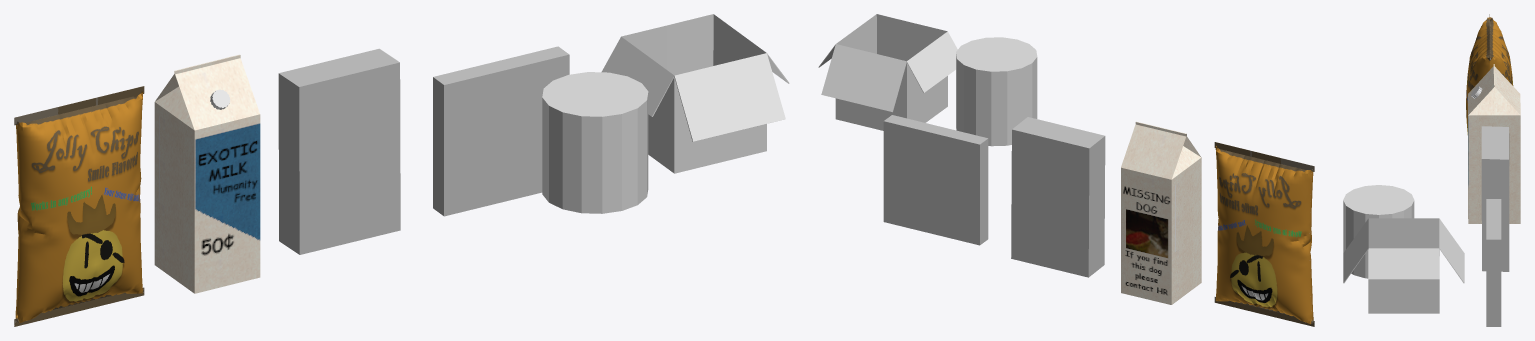
The model's file is asset (2).fbx.
3 renders of one model, left to right at view 1: azimuth 30°, elevation 25°; view 2: azimuth 150°, elevation 25°; view 3: azimuth 270°, elevation 25°, orthographic. The views are drawn at different scales.
Parts seen in each view (by area): view 1: chips, cereal, carton, wooden box, pizza box, Cylinder; view 2: chips, cereal, carton, wooden box, pizza box, Cylinder; view 3: wooden box, carton, cereal, Cylinder, chips, pizza box.
Boxes of the visible parts, bbox=[...] form: chips: bbox=[14, 86, 144, 326]; cereal: bbox=[278, 48, 400, 254]; carton: bbox=[154, 54, 260, 293]; wooden box: bbox=[601, 14, 789, 173]; pizza box: bbox=[433, 46, 569, 216]; Cylinder: bbox=[542, 72, 648, 213]; chips: bbox=[1214, 142, 1314, 326]; cereal: bbox=[1011, 117, 1105, 277]; carton: bbox=[1121, 121, 1201, 304]; wooden box: bbox=[818, 14, 957, 130]; pizza box: bbox=[883, 115, 988, 245]; Cylinder: bbox=[956, 37, 1037, 146]; wooden box: bbox=[1343, 218, 1464, 313]; carton: bbox=[1468, 64, 1520, 223]; cereal: bbox=[1481, 126, 1509, 271]; Cylinder: bbox=[1343, 185, 1414, 278]; chips: bbox=[1466, 14, 1513, 134]; pizza box: bbox=[1486, 199, 1501, 326].
Bounding box in the file's own units: 1475 × 441 × 499.
